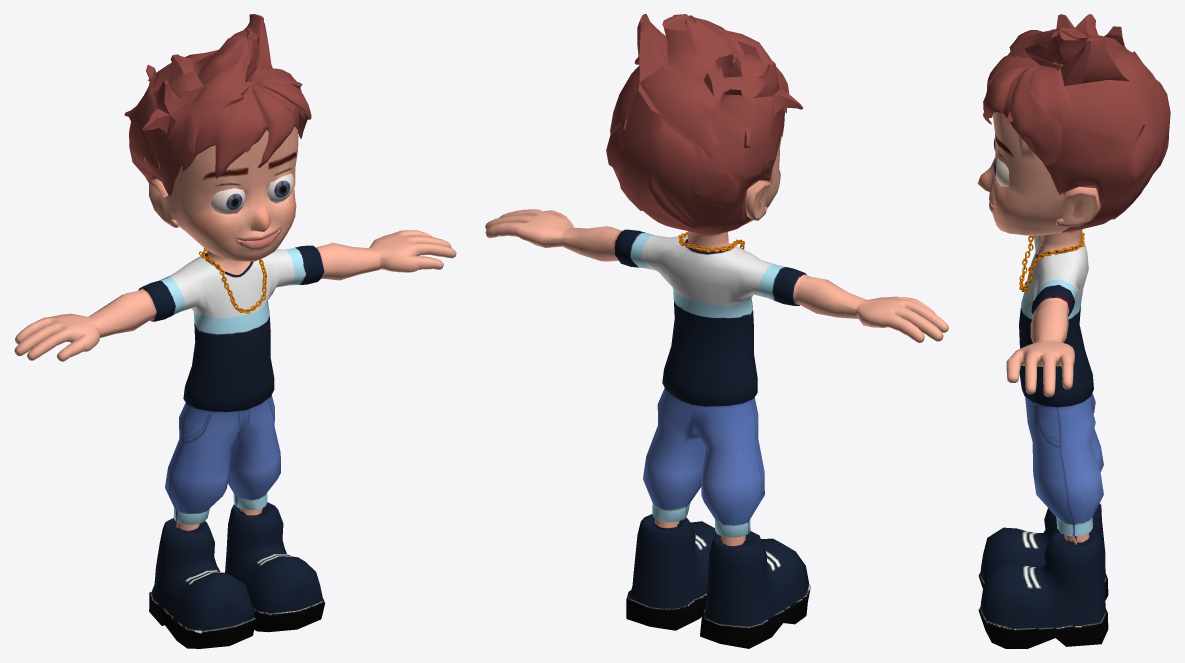
Rendered from player before export correct color v 1.1.fbx.
The picture shows the model from 3 angles, left to right: view 1: azimuth 30°, elevation 25°; view 2: azimuth 150°, elevation 25°; view 3: azimuth 270°, elevation 25°; orthographic projection. The views are drawn at different scales.
Visible parts, largest first — view 1: Object, Sphere.001, BezierCurve; view 2: Object; view 3: Object, BezierCurve, Sphere.
Boxes of the visible parts, left/top/right/bottom form: Object: left=14, top=14, right=456, bottom=648; Sphere.001: left=211, top=188, right=245, bottom=214; BezierCurve: left=199, top=247, right=266, bottom=313; Object: left=485, top=14, right=948, bottom=648; Object: left=977, top=14, right=1170, bottom=648; BezierCurve: left=1019, top=232, right=1084, bottom=293; Sphere: left=994, top=156, right=1009, bottom=186.
Size of the model in its own units: 742 by 938 by 274.
5 materials, 4 textured.
